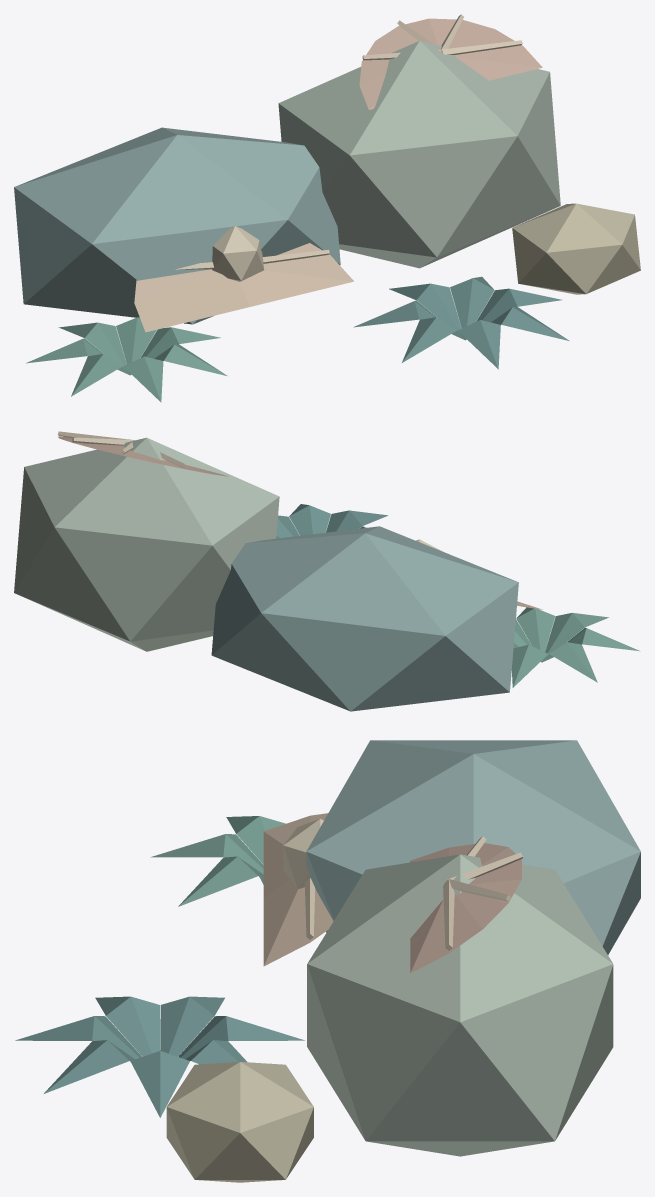
The model's file is xingyin-environment-v2__tide_shell_rocks.glb.
3 renders of one model, top to bottom at view 1: azimuth 30°, elevation 25°; view 2: azimuth 150°, elevation 25°; view 3: azimuth 270°, elevation 25°, orthographic. The views are drawn at different scales.
Parts seen in each view (by area): view 1: tide_shell_rocks; view 2: tide_shell_rocks; view 3: tide_shell_rocks.
Boxes of the visible parts, x1,y1,x2,y2 form: tide_shell_rocks: [14, 14, 640, 402]; tide_shell_rocks: [14, 431, 640, 711]; tide_shell_rocks: [15, 740, 640, 1182].
Size of the model in its own units: 2.62 by 1.01 by 1.88.
